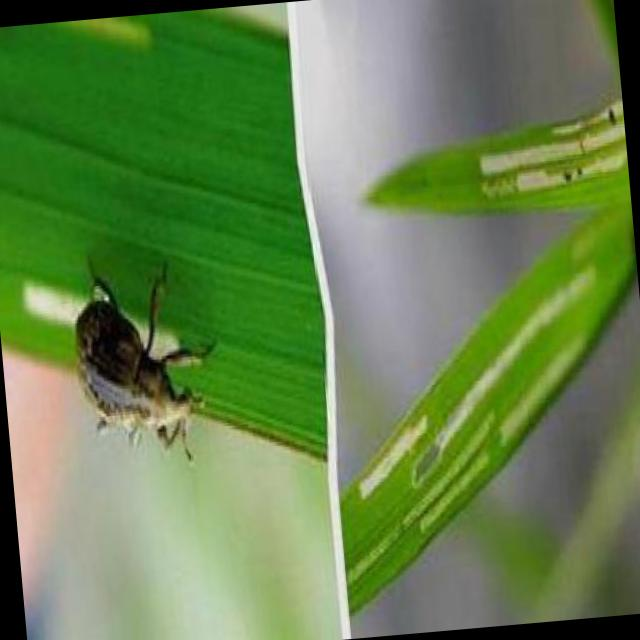rice-bug: (64, 261, 205, 464)
